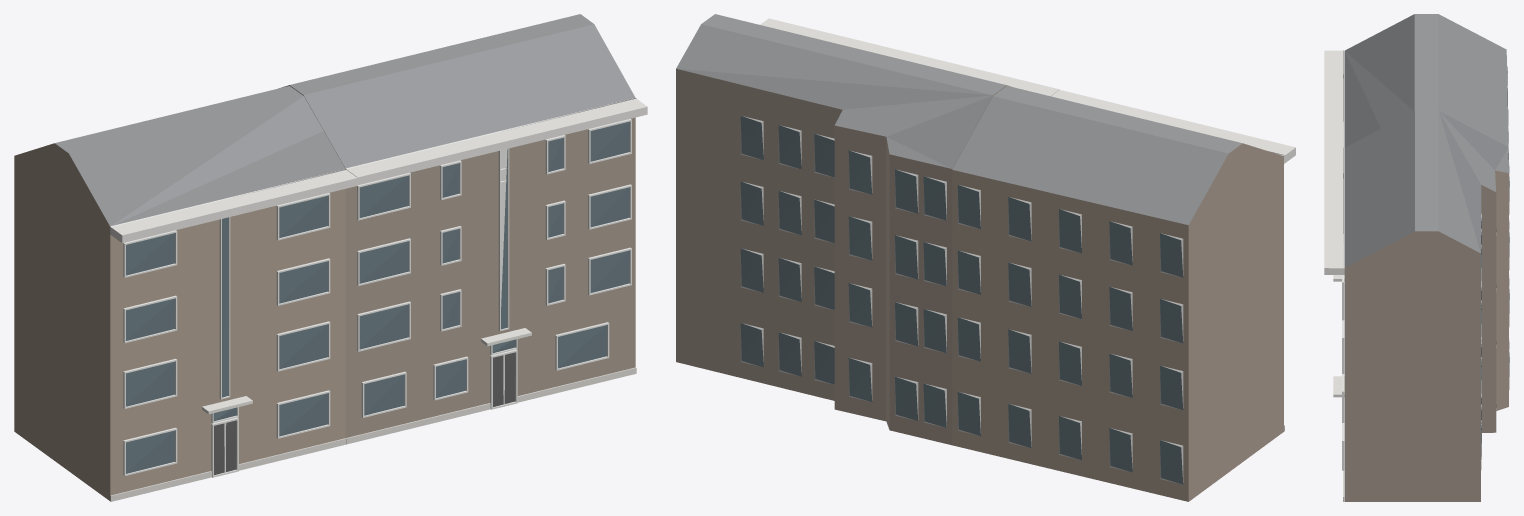
The model's file is chunk-face-houtrijk-335-409-r1.lod2.glb.
3 views of the same model, side by side, from view 1: azimuth 30°, elevation 25°; view 2: azimuth 150°, elevation 25°; view 3: azimuth 270°, elevation 25° (orthographic). The views are drawn at different scales.
Visible parts, largest first — view 1: lod2; view 2: lod2; view 3: lod2.
Part boxes in pixels (bbox=[...]): lod2: bbox=[14, 14, 647, 501]; lod2: bbox=[676, 14, 1295, 501]; lod2: bbox=[1324, 14, 1509, 501].
Size of the model in its own units: 27.97 by 16.18 by 10.06.
